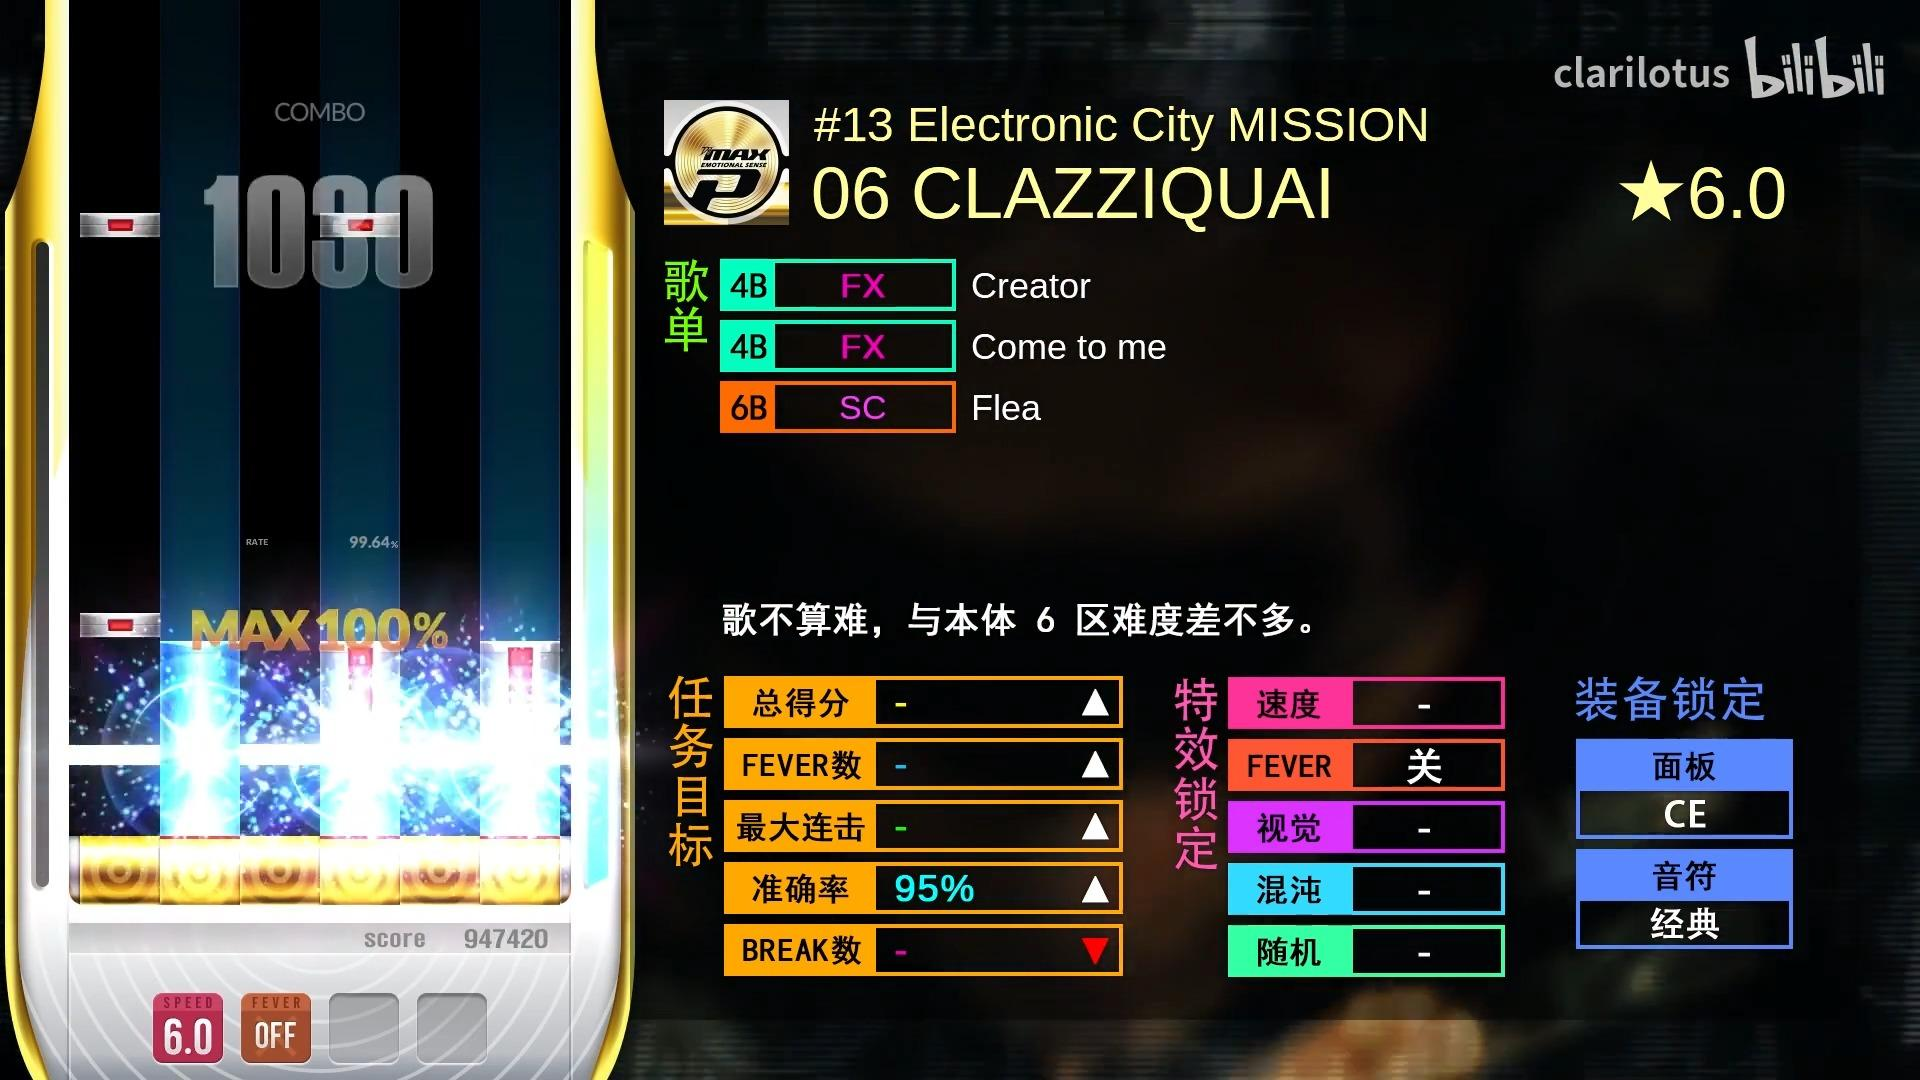hold-end: (320, 641, 400, 667), (160, 641, 240, 666), (480, 641, 559, 665)
note: (80, 612, 161, 638), (80, 211, 160, 237), (320, 212, 401, 237)
